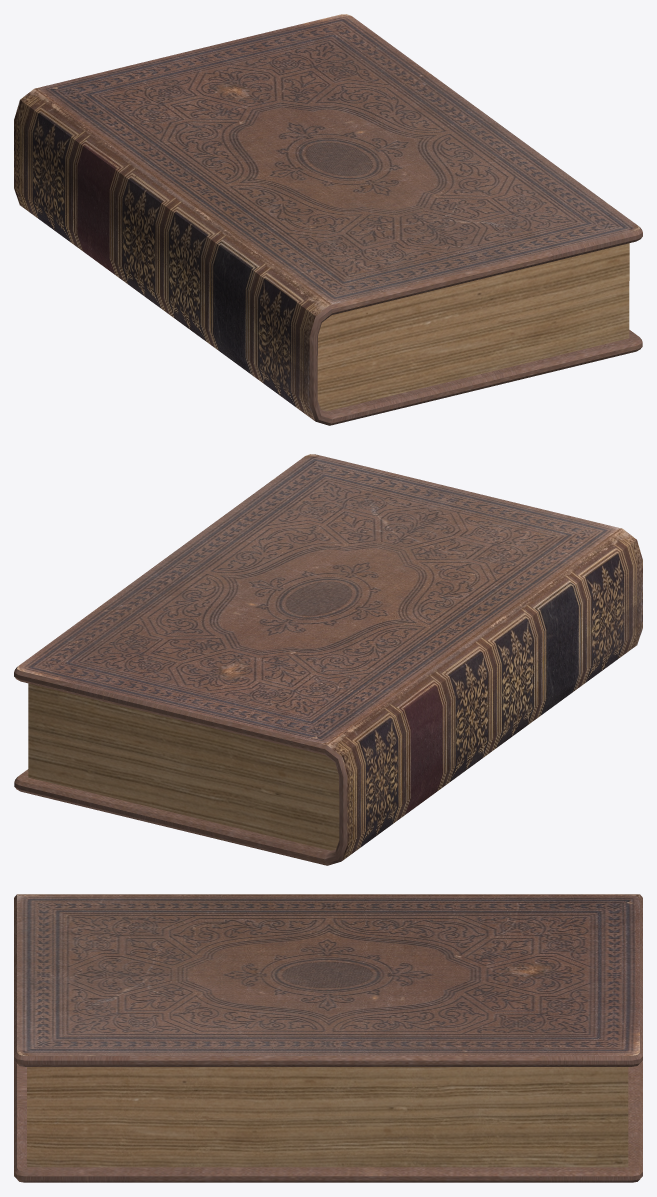
The model's file is my_book.fbx.
3 views of the same model, one above another, from view 1: azimuth 30°, elevation 25°; view 2: azimuth 150°, elevation 25°; view 3: azimuth 270°, elevation 25° (orthographic). The views are drawn at different scales.
Parts seen in each view (by area): view 1: Mesh; view 2: Mesh; view 3: Mesh.
Part boxes in pixels (left/top/right/bottom): Mesh: left=14, top=14, right=642, bottom=425; Mesh: left=14, top=454, right=642, bottom=865; Mesh: left=14, top=894, right=642, bottom=1182.
Size of the model in its own units: 133 by 45.93 by 205.
Materials: 1 (1 with a texture image).
